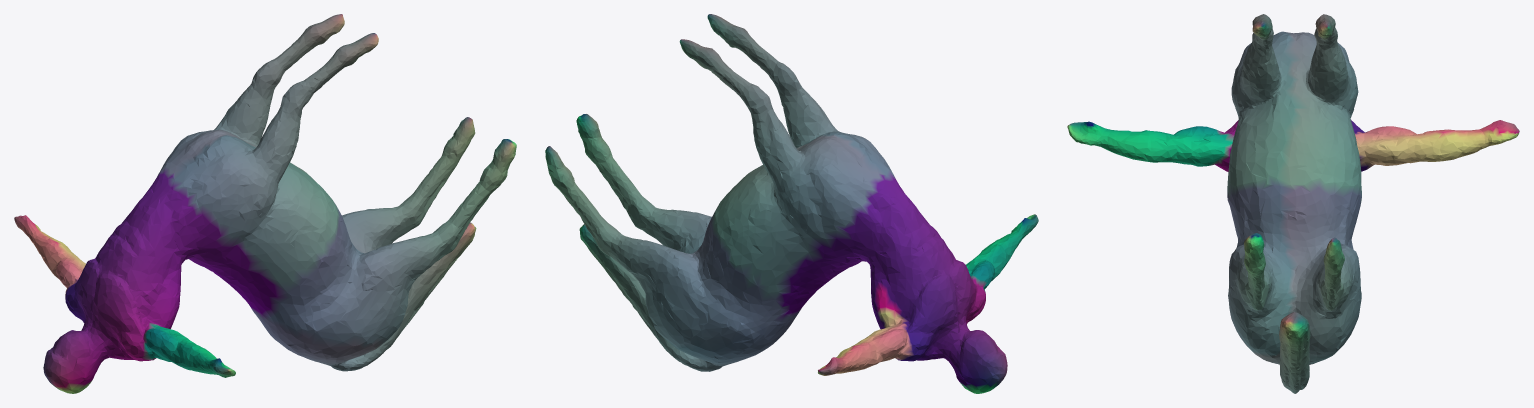
The model's file is centaur-20.off.obj.
3 renders of one model, left to right at view 1: azimuth 30°, elevation 25°; view 2: azimuth 150°, elevation 25°; view 3: azimuth 270°, elevation 25°, orthographic. The views are drawn at different scales.
Bounding box in the file's own units: 1.65 × 1.22 × 1.35.
